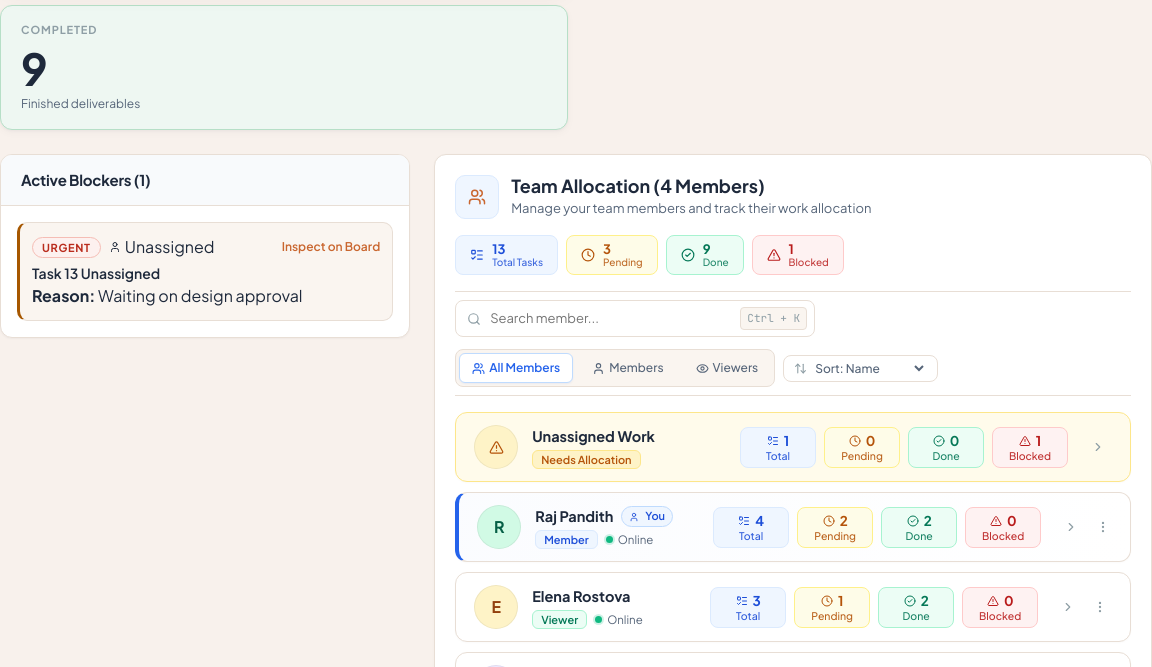
Test: Team Allocation Redesign — Modern SaaS Layout & Interactive Badges › filters team members using member search input and role filter buttons
The width and height of the screenshot is (1152, 667).
(page scrolled)
Check: the element with id "team-member-row-u-member-raj" is shown, box top-left (455, 492), bottom-right (1131, 562)
Check: the element with id "team-member-row-u-viewer-elena" is shown, box top-left (455, 572), bottom-right (1131, 642)
// Search for "Marcus"
Type "Marcus" into the field named "Search team member by name or role". click: (635, 319)
box: top-left (455, 300), bottom-right (815, 337)
(page scrolled)
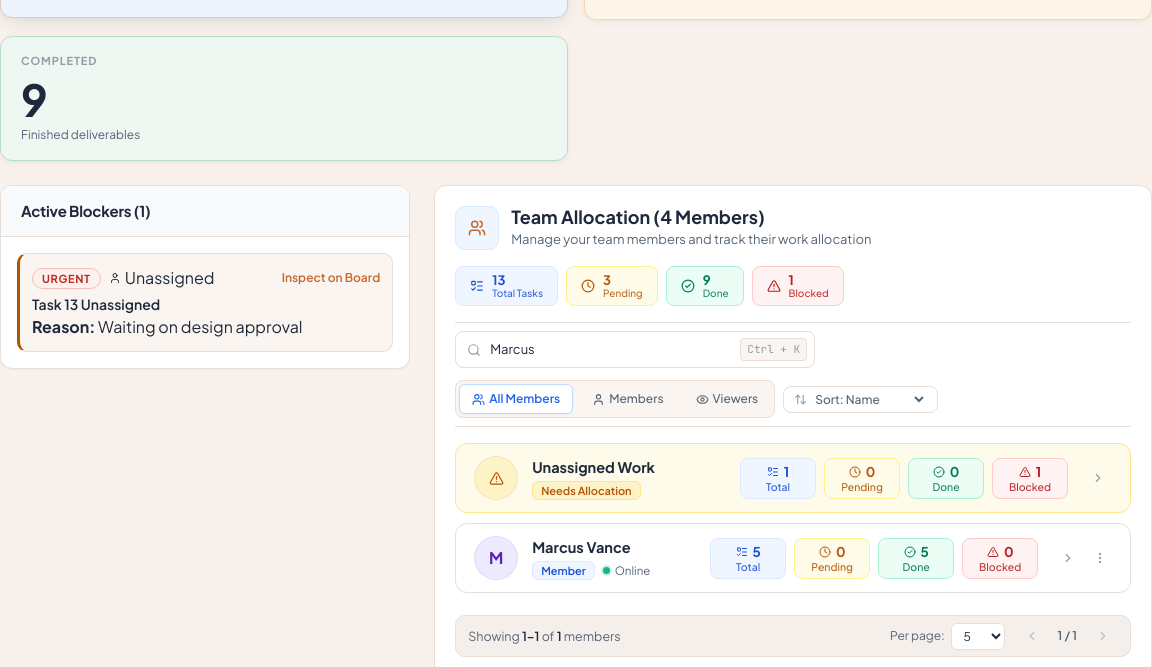
Check: the element with id "team-member-row-u-member-marcus" is shown, box top-left (455, 523), bottom-right (1131, 593)
Check: the element with id "team-member-row-u-viewer-elena" is gone
// Clear search
Clear the field named "Search team member by name or role". click: (635, 350)
box: top-left (455, 331), bottom-right (815, 368)
(page scrolled)
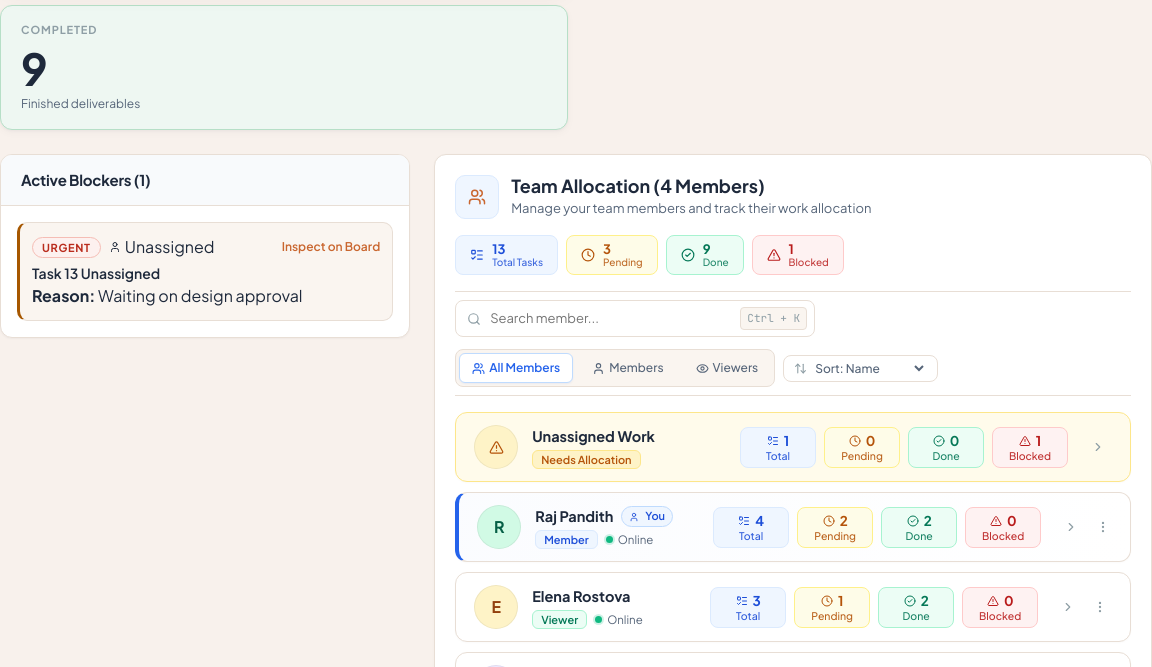
// Click "Viewers" filter button
Click the button with id "filter-viewers-only-btn". click: (727, 368)
box: top-left (682, 353), bottom-right (771, 383)
(page scrolled)
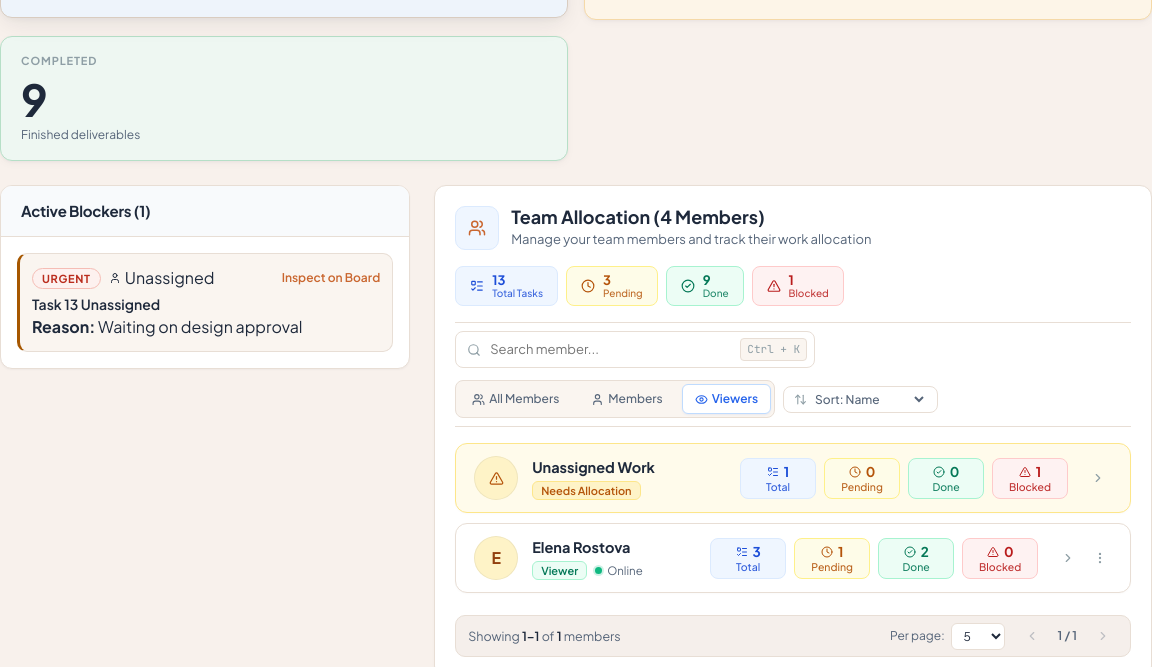
Check: the element with id "team-member-row-u-viewer-elena" is shown, box top-left (455, 523), bottom-right (1131, 593)
Check: the element with id "team-member-row-u-member-raj" is gone
// Click "Members" filter button
Click the button with id "filter-members-only-btn". click: (627, 399)
box: top-left (578, 384), bottom-right (676, 414)
(page scrolled)
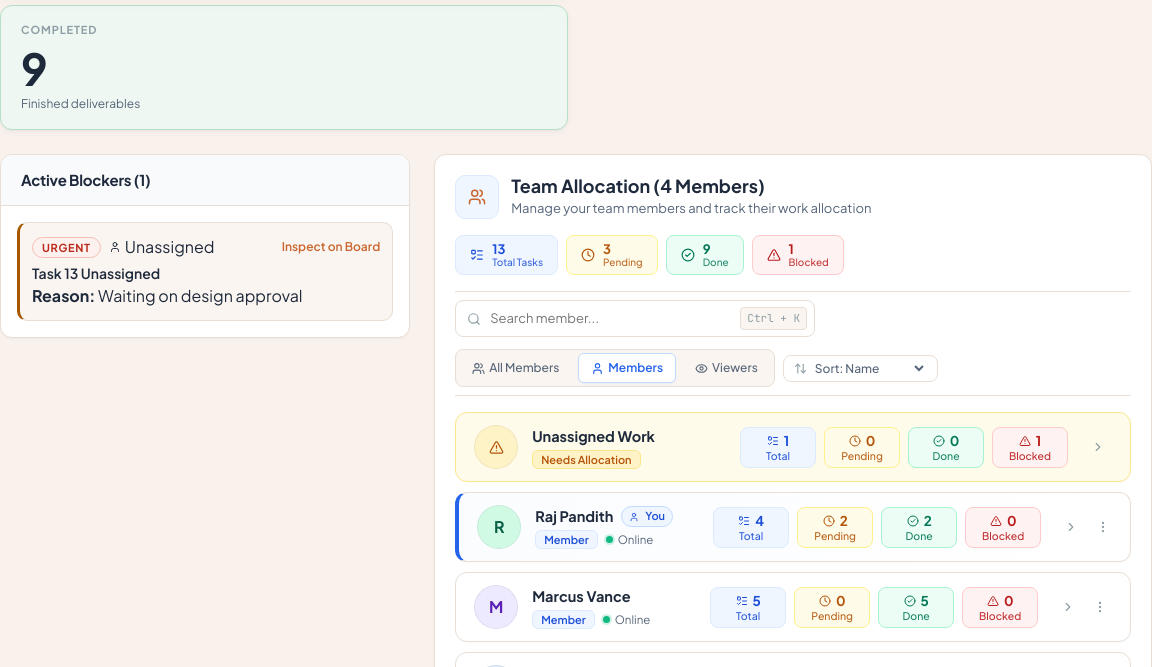
Check: the element with id "team-member-row-u-viewer-elena" is gone
Check: the element with id "team-member-row-u-member-marcus" is shown, box top-left (455, 572), bottom-right (1131, 642)
